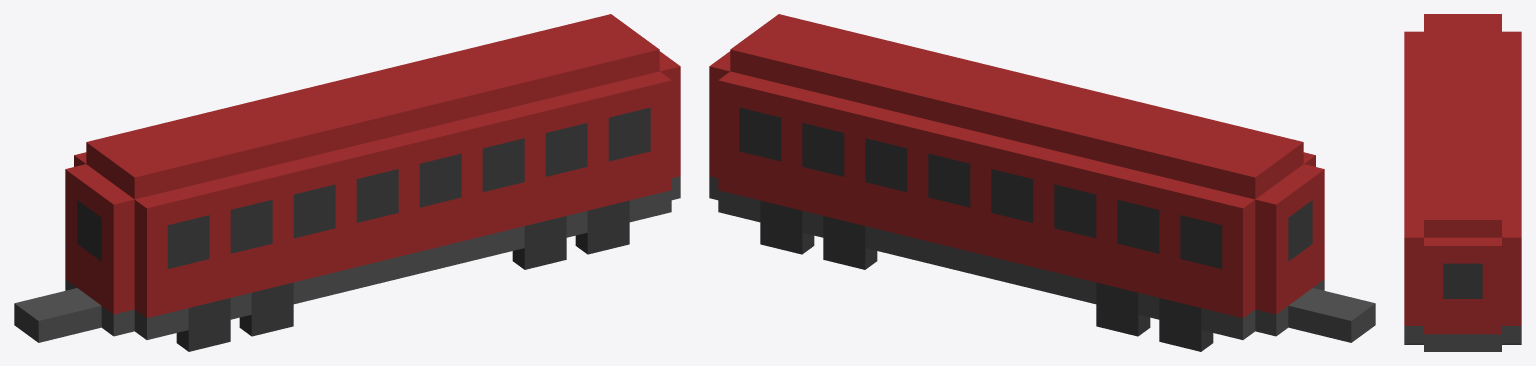
Rendered from train-trailer-v3-red.gltf.
The picture shows the model from 3 angles, left to right: view 1: azimuth 30°, elevation 25°; view 2: azimuth 150°, elevation 25°; view 3: azimuth 270°, elevation 25°; orthographic projection. The views are drawn at different scales.
Parts seen in each view (by area): view 1: model, wheels; view 2: model, wheels; view 3: model.
Part boxes in pixels (box(x1,y1,x2,y2)): model: box(14, 14, 680, 342); wheels: box(176, 200, 629, 351); model: box(709, 14, 1375, 342); wheels: box(760, 200, 1213, 351); model: box(1404, 14, 1521, 351).
Bounding box in the file's own units: 3 × 0.8 × 0.6.
2 materials, 2 textured.
